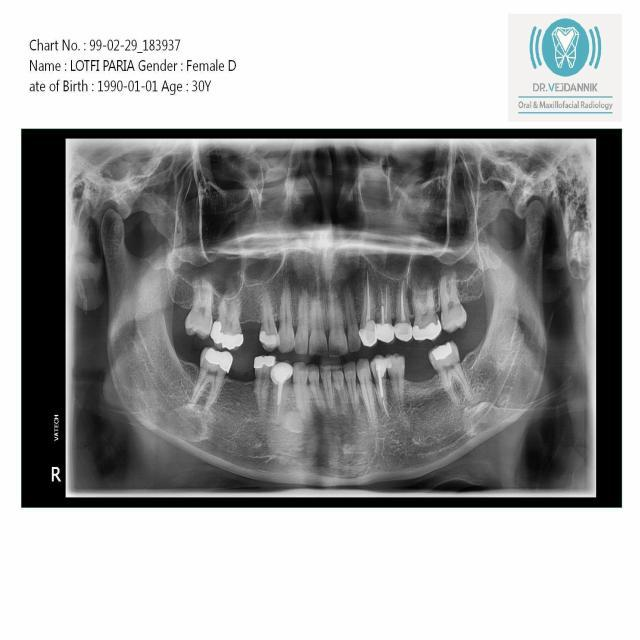71: (267, 365, 289, 406), (375, 360, 384, 399), (380, 305, 385, 323)
74: (365, 270, 370, 324), (381, 398, 392, 421), (384, 286, 387, 319), (380, 285, 383, 304), (276, 404, 280, 416)
NucleOSS Implant: (206, 320, 246, 355), (203, 341, 238, 374), (410, 318, 444, 345), (430, 340, 455, 363), (254, 354, 276, 369)
Sterngold Implant: (428, 356, 434, 365)
Straumann Implant: (371, 352, 392, 380), (258, 330, 278, 344), (385, 357, 392, 369)
Zimmer Implant: (267, 358, 295, 387), (356, 319, 380, 349), (375, 321, 396, 346), (393, 321, 413, 342), (401, 281, 406, 321)
